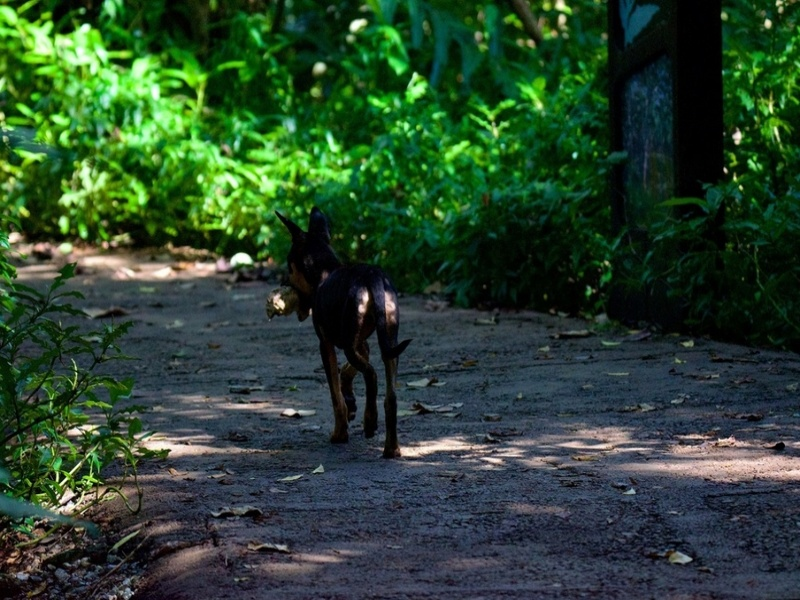dog: (272, 204, 414, 465)
